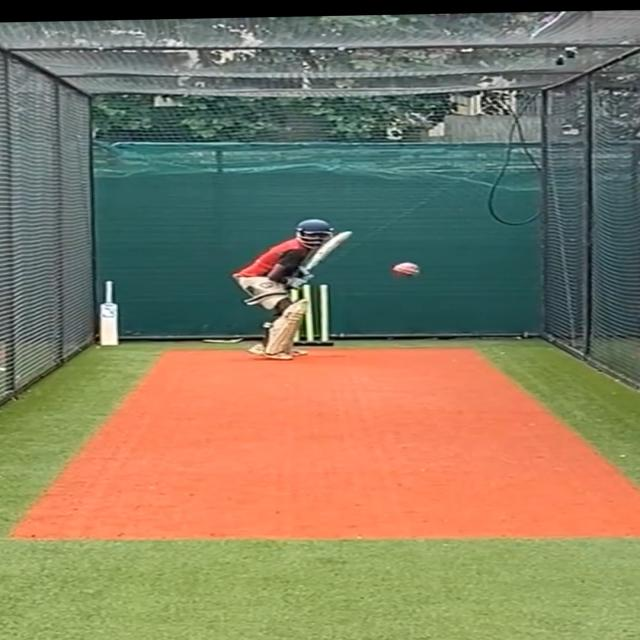ball: (392, 260, 422, 279)
stump: (288, 282, 336, 348)
